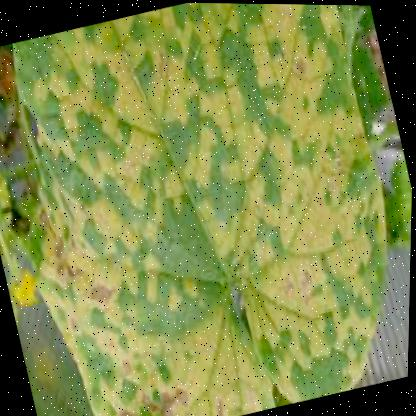DownyMildew: (0, 0, 383, 415)
